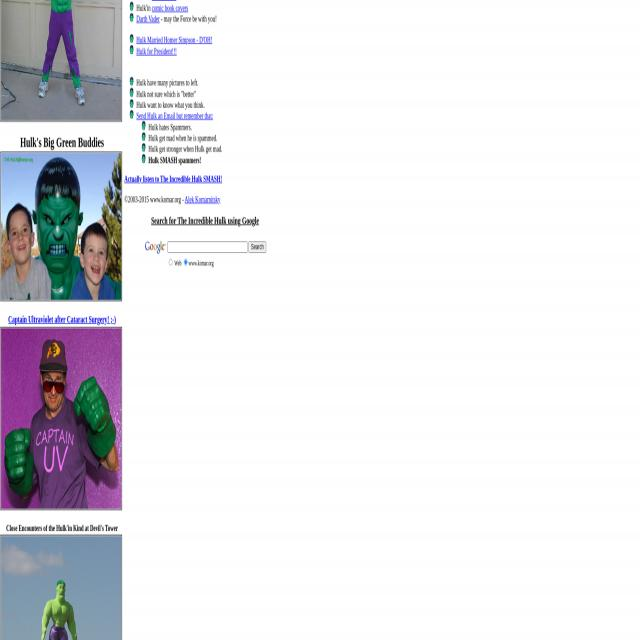button: (0, 327, 122, 509), (0, 152, 122, 300), (0, 0, 122, 122), (144, 238, 166, 256)
field: (168, 241, 248, 253), (248, 241, 266, 253)
